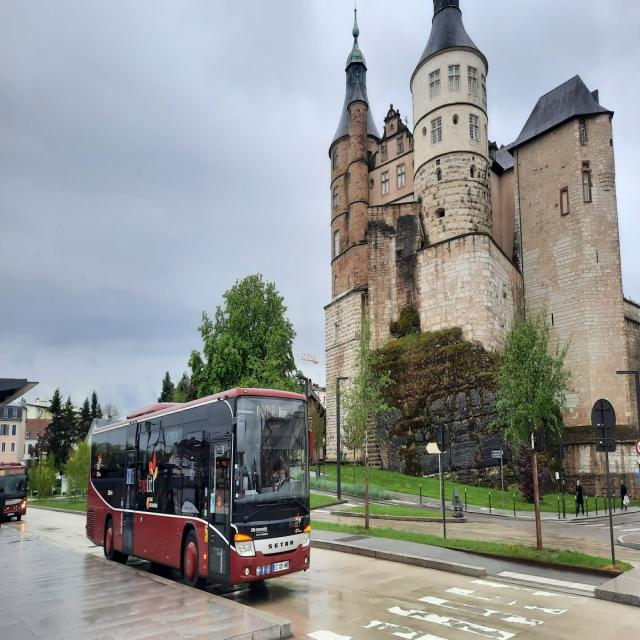Bus: (85, 387, 311, 586)
Tree: (497, 309, 571, 549), (342, 318, 390, 530)
